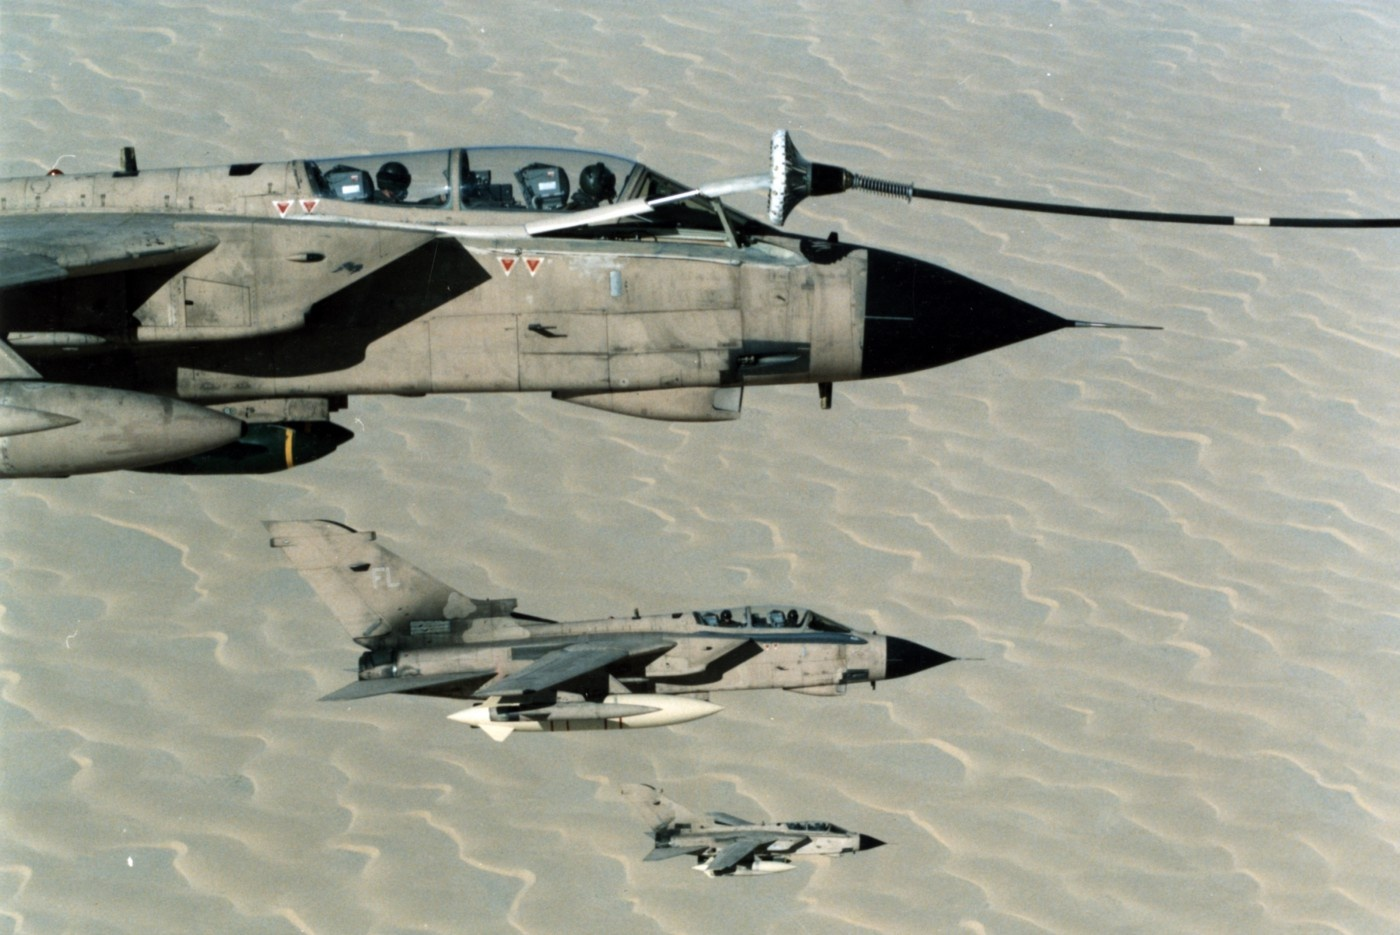Tornado: (1, 146, 1165, 480), (259, 517, 987, 741), (615, 781, 900, 879)
